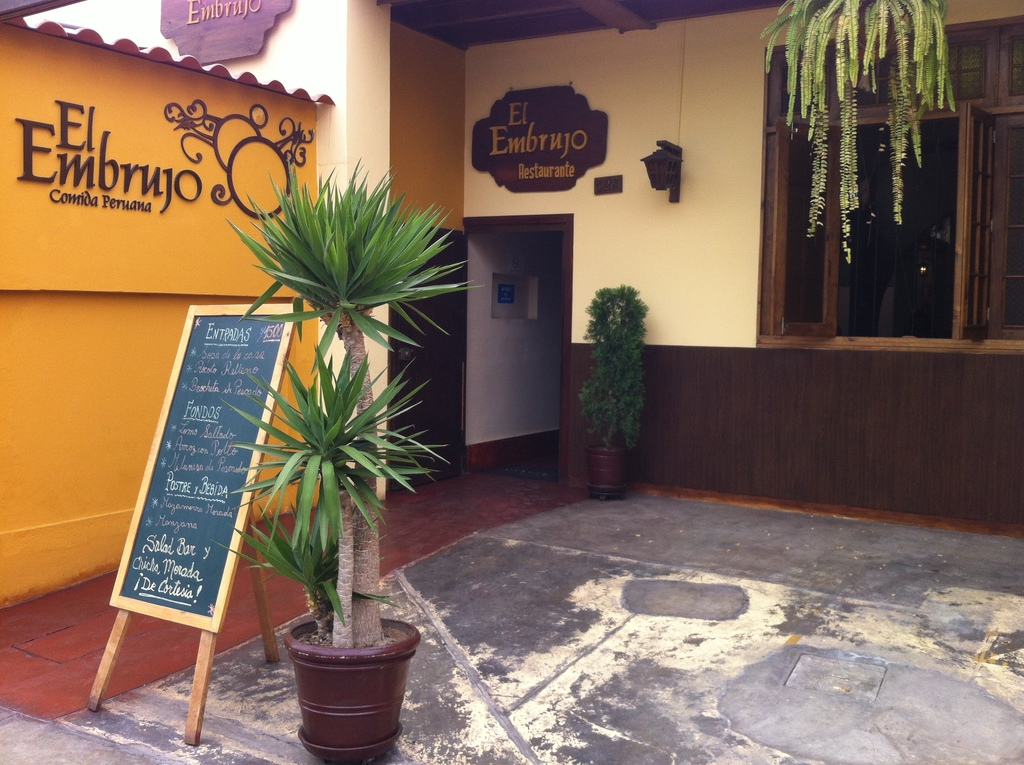Tree: (206, 151, 487, 628)
